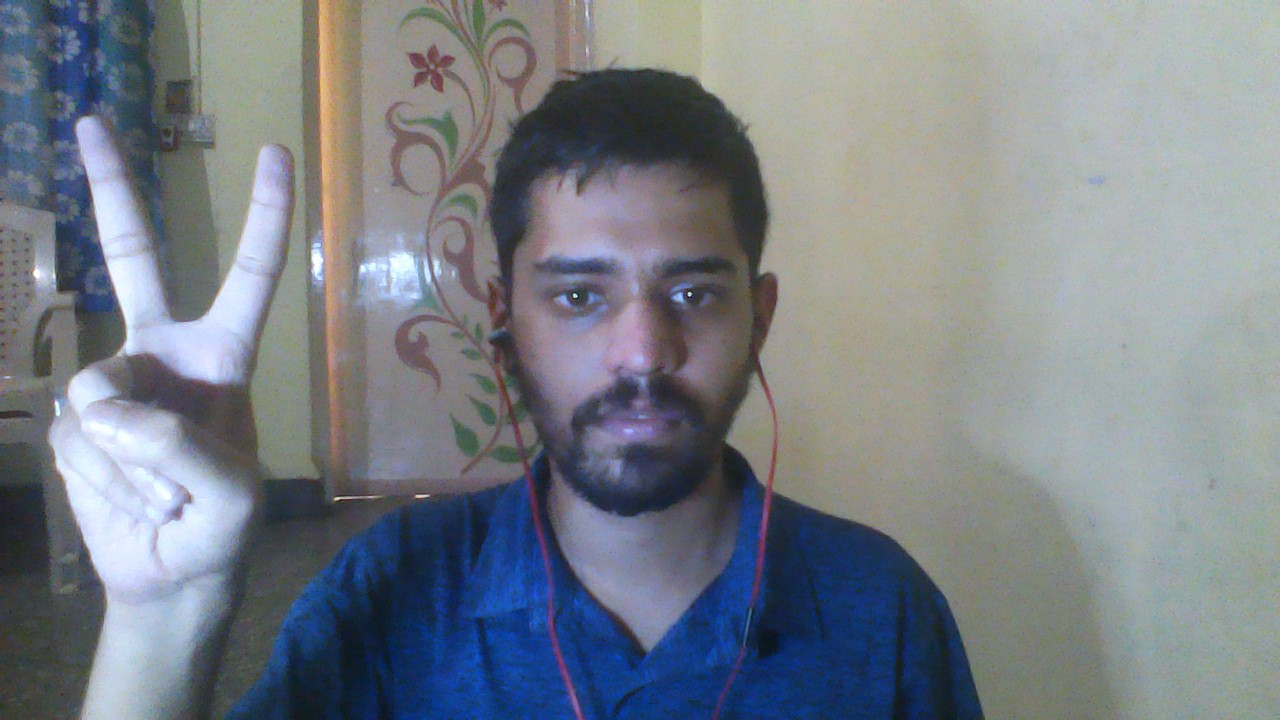v: (21, 85, 313, 720)
